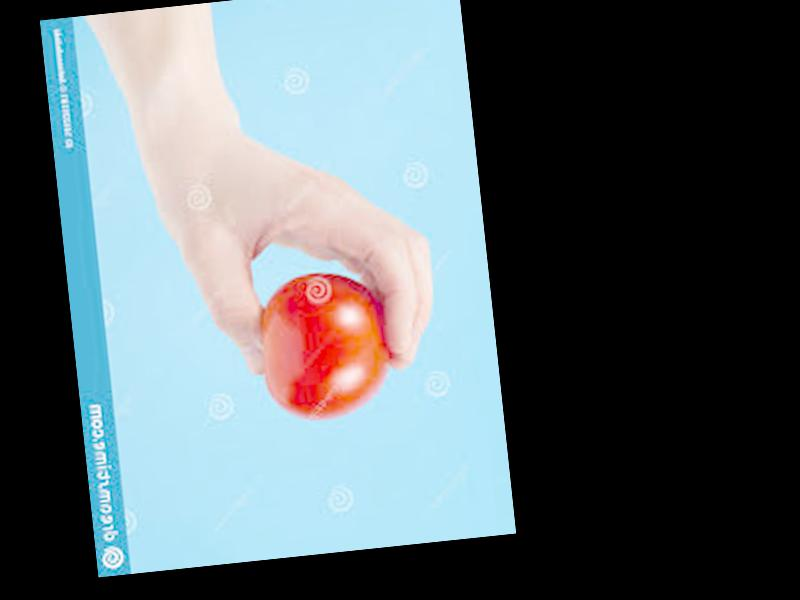Tomato: (254, 267, 399, 424)
